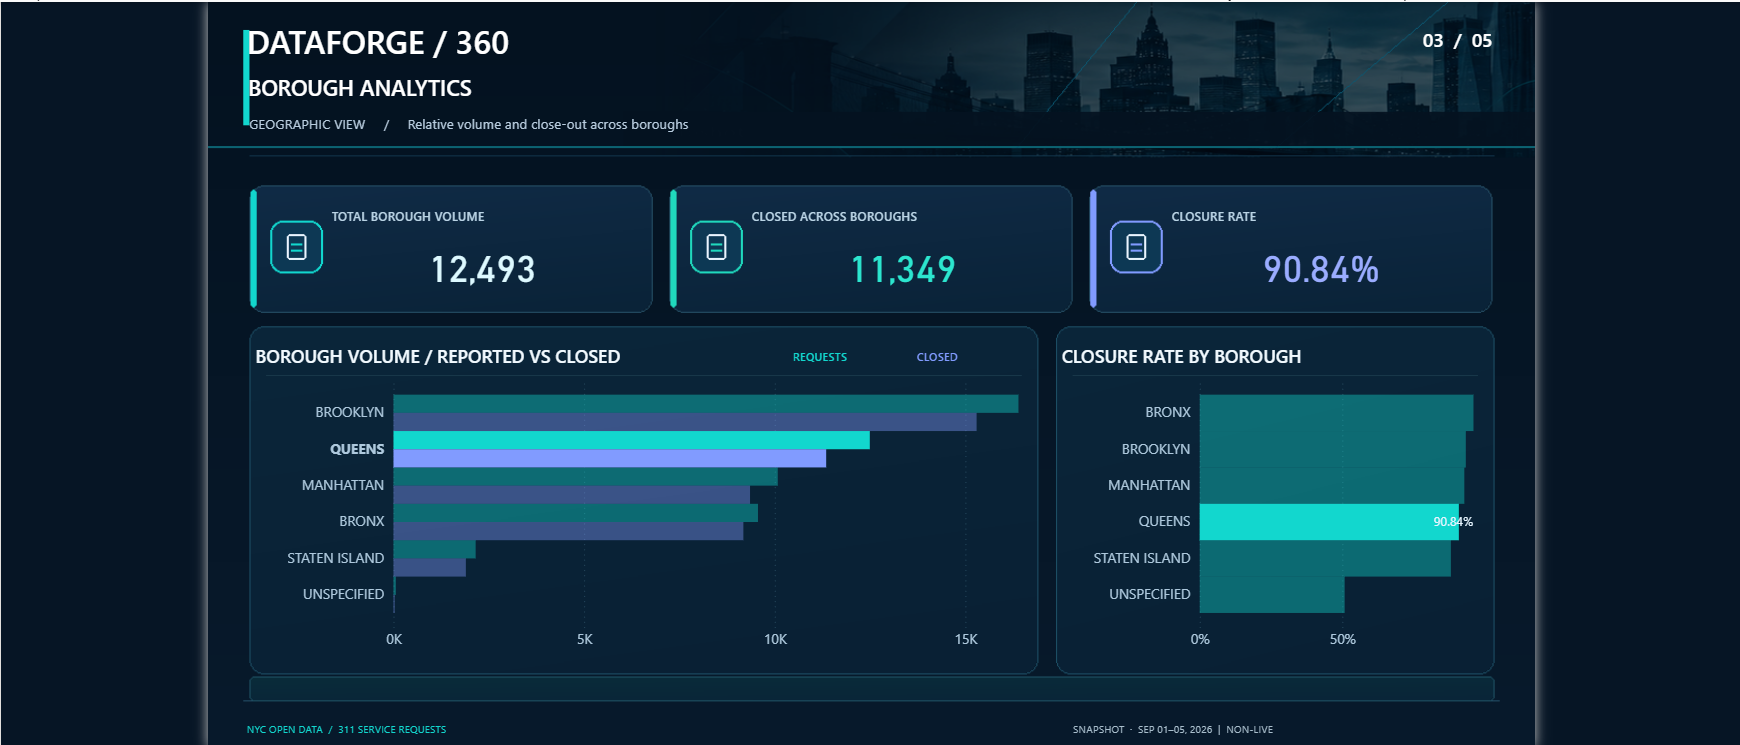

The page's visual inventory and layout, read from the dashboard file:
{"tool":"powerbi","page":{"name":"Borough Analytics","canvas":[1280,720],"ordinal":2},"visuals":[{"type":"textbox","box":[37,17,700,45],"z":5},{"type":"textbox","box":[39,69,960,32],"z":6},{"type":"textbox","box":[40,108,1040,25],"z":7},{"type":"textbox","box":[1160,24,91,29],"z":8},{"type":"textbox","box":[37,691,570,23],"z":9},{"type":"textbox","box":[835,691,403,23],"z":10},{"type":"textbox","box":[120,197,293,27],"z":40},{"type":"textbox","box":[525,197,293,27],"z":41},{"type":"textbox","box":[930,197,293,27],"z":42},{"type":"card","fields":{"Values":["borough.Borough Requests"]},"box":[117,218,296,73],"z":50},{"type":"card","fields":{"Values":["borough.Borough Closed"]},"box":[522,218,296,73],"z":51},{"type":"card","fields":{"Values":["borough.Borough Closure Rate"]},"box":[927,218,296,73],"z":52},{"type":"clusteredBarChart","title":"BOROUGH VOLUME  /  REPORTED VS CLOSED","fields":{"Category":["borough.label"],"Y":["borough.Borough Requests","borough.Borough Closed"]},"box":[40,323,760,326],"z":92},{"type":"barChart","title":"CLOSURE RATE BY BOROUGH","fields":{"Category":["borough.label"],"Y":["borough.Borough Closure Rate"]},"box":[818,323,422,326],"z":93},{"type":"textbox","box":[565,332,100,28],"z":131},{"type":"textbox","box":[684,332,100,28],"z":133}]}

Visuals, with their boxes on the page's 1280x720 design canvas (x1, y1, x2, y2). These are canvas units, not pixel positions in the 1740x745 screenshot, which may show the page scaled, cropped or inside an application window:
textbox: (x1=37, y1=17, x2=737, y2=62)
textbox: (x1=39, y1=69, x2=999, y2=101)
textbox: (x1=40, y1=108, x2=1080, y2=133)
textbox: (x1=1160, y1=24, x2=1251, y2=53)
textbox: (x1=37, y1=691, x2=607, y2=714)
textbox: (x1=835, y1=691, x2=1238, y2=714)
textbox: (x1=120, y1=197, x2=413, y2=224)
textbox: (x1=525, y1=197, x2=818, y2=224)
textbox: (x1=930, y1=197, x2=1223, y2=224)
card - borough.Borough Requests: (x1=117, y1=218, x2=413, y2=291)
card - borough.Borough Closed: (x1=522, y1=218, x2=818, y2=291)
card - borough.Borough Closure Rate: (x1=927, y1=218, x2=1223, y2=291)
"BOROUGH VOLUME  /  REPORTED VS CLOSED" clusteredBarChart: (x1=40, y1=323, x2=800, y2=649)
"CLOSURE RATE BY BOROUGH" barChart: (x1=818, y1=323, x2=1240, y2=649)
textbox: (x1=565, y1=332, x2=665, y2=360)
textbox: (x1=684, y1=332, x2=784, y2=360)
